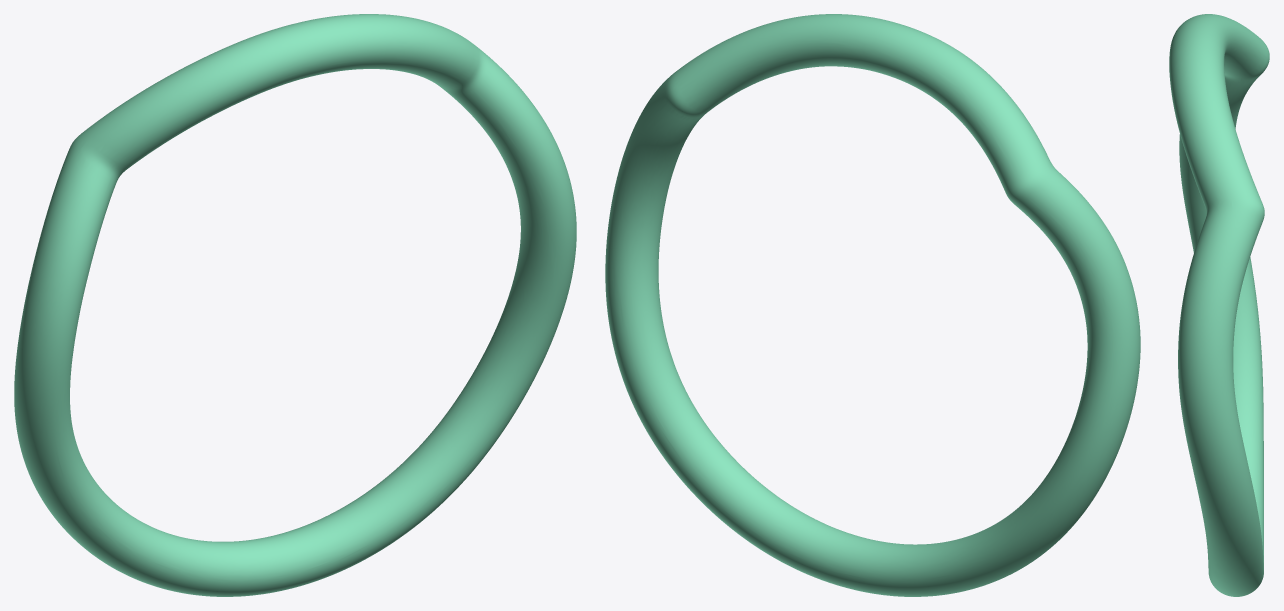
3 views of the same model, side by side, from view 1: azimuth 30°, elevation 25°; view 2: azimuth 150°, elevation 25°; view 3: azimuth 270°, elevation 25° (orthographic). The views are drawn at different scales.
Parts seen in each view (by area): view 1: Metal03; view 2: Metal03; view 3: Metal03.
Boxes of the visible parts, x1,y1,x2,y2 form: Metal03: [14, 14, 576, 596]; Metal03: [605, 14, 1140, 596]; Metal03: [1169, 14, 1269, 596].
Bounding box in the file's own units: 20.88 × 20.88 × 3.6.
